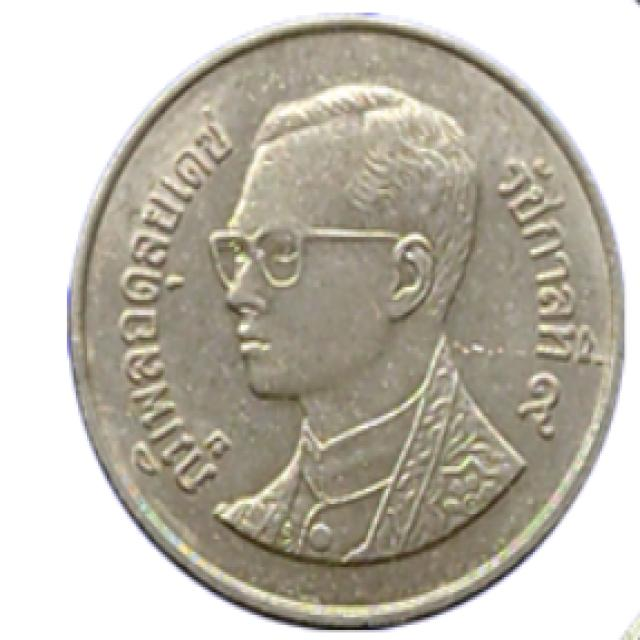1 Bath: (41, 1, 634, 638)
